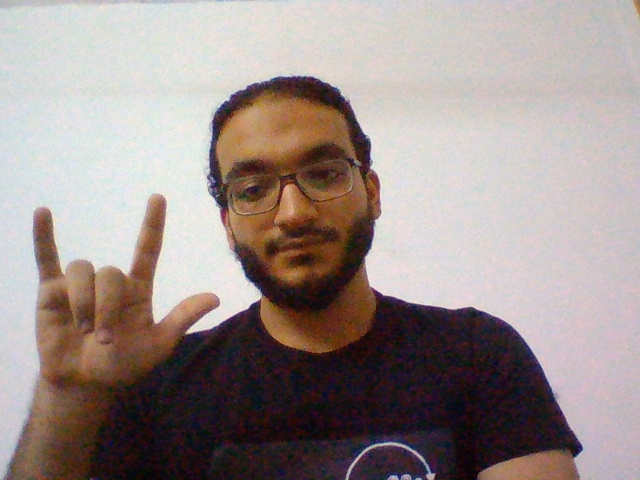I Love Yoy: (3, 184, 229, 401)
